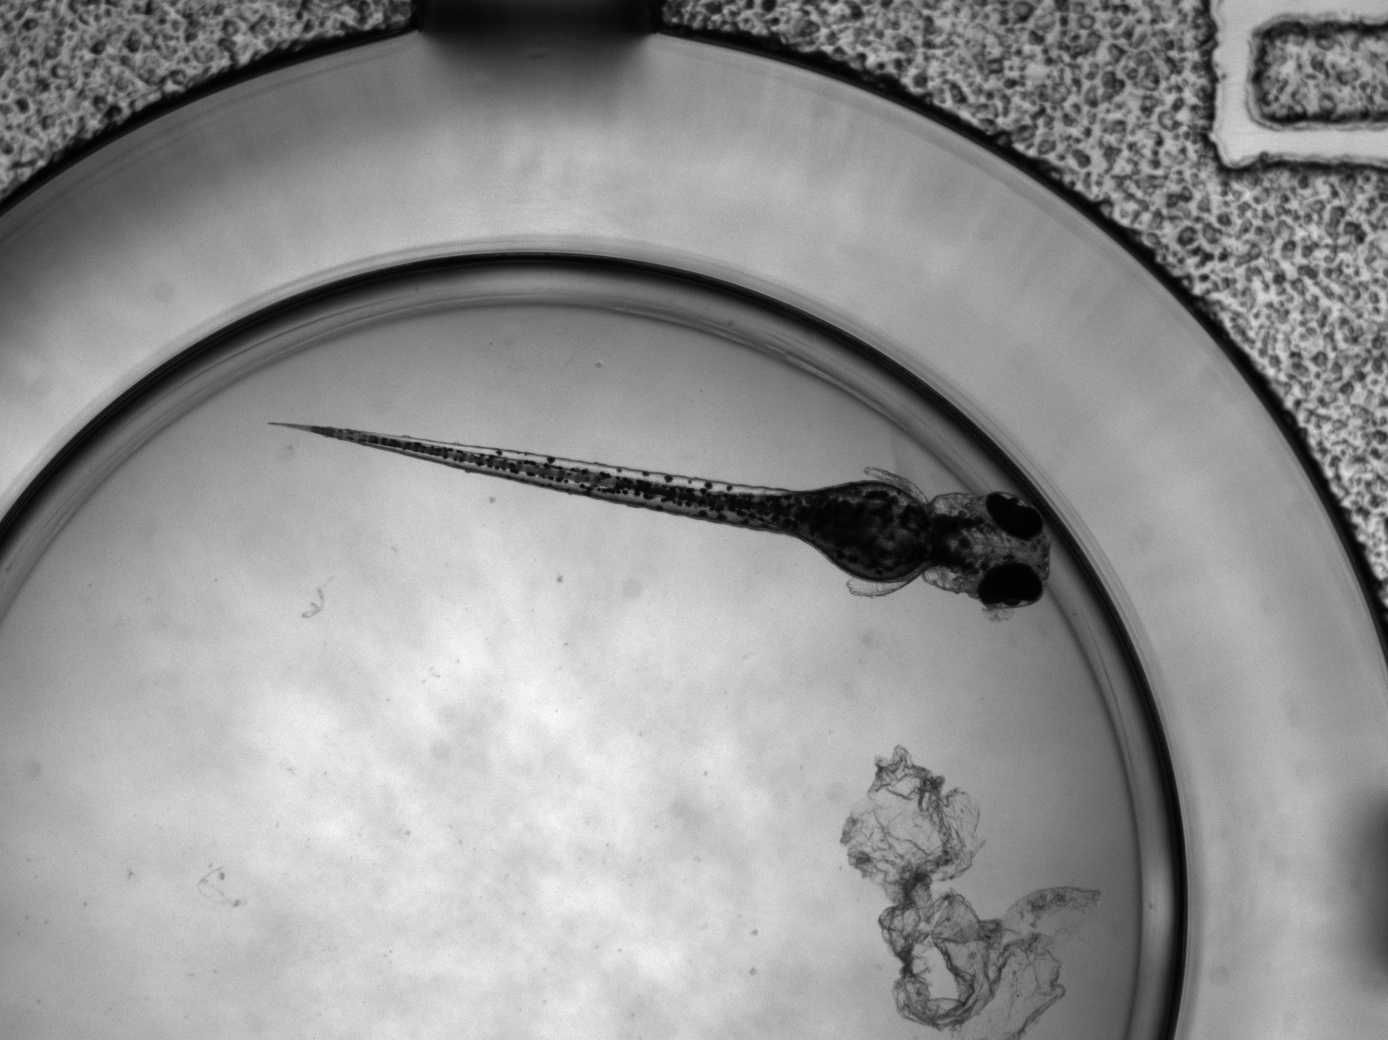debris: (837, 737, 1108, 1040)
embryo: (264, 418, 1051, 610)
eye: (978, 562, 1042, 610), (985, 491, 1043, 540)
yolksac: (810, 481, 929, 581)
